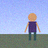person: (25, 13, 40, 40)
